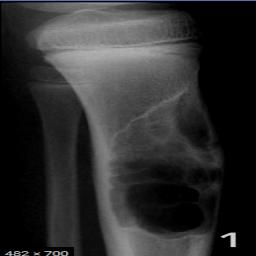cancer: (110, 88, 221, 235)
